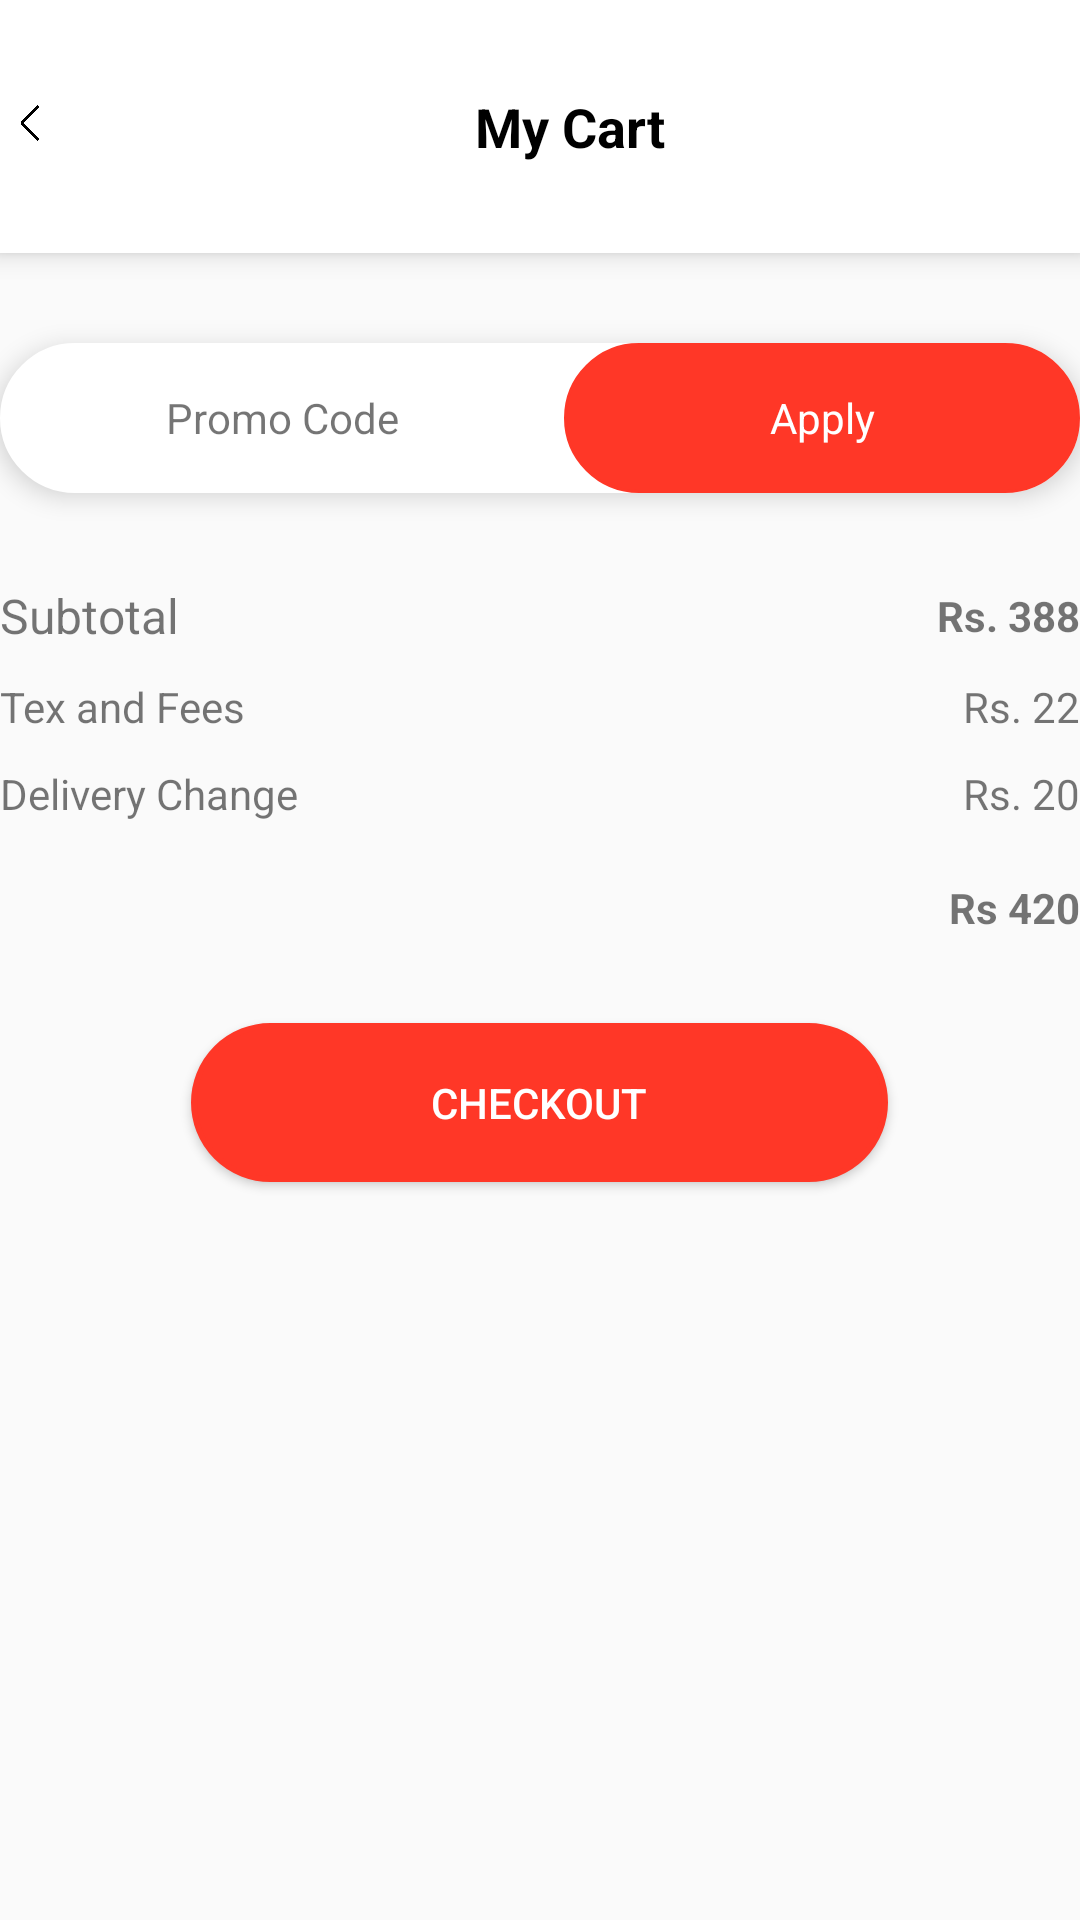

Icon click points for this 1080*1920 phone screenshot, format (x,y):
back: (30,123)
